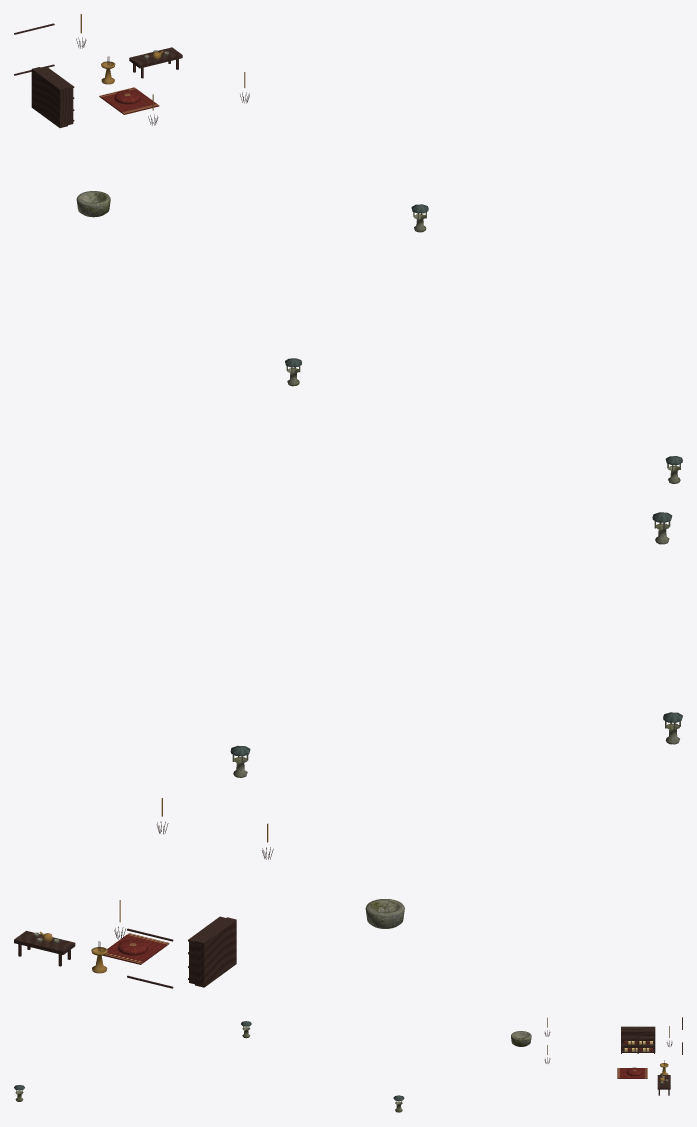
Rendered from chan_props.glb.
3 renders of one model, top to bottom at view 1: azimuth 30°, elevation 25°; view 2: azimuth 150°, elevation 25°; view 3: azimuth 270°, elevation 25°, orthographic. The views are drawn at different scales.
Parts seen in each view (by area): view 1: chan_props0; view 2: chan_props0; view 3: chan_props0.
Boxes of the visible parts, x1=… form: chan_props0: x1=14, y1=14, x2=682, y2=483; chan_props0: x1=14, y1=512, x2=682, y2=988; chan_props0: x1=14, y1=1017, x2=682, y2=1112.
Size of the model in its own units: 13.7 by 4.53 by 48.67.
1 material, 1 textured.
